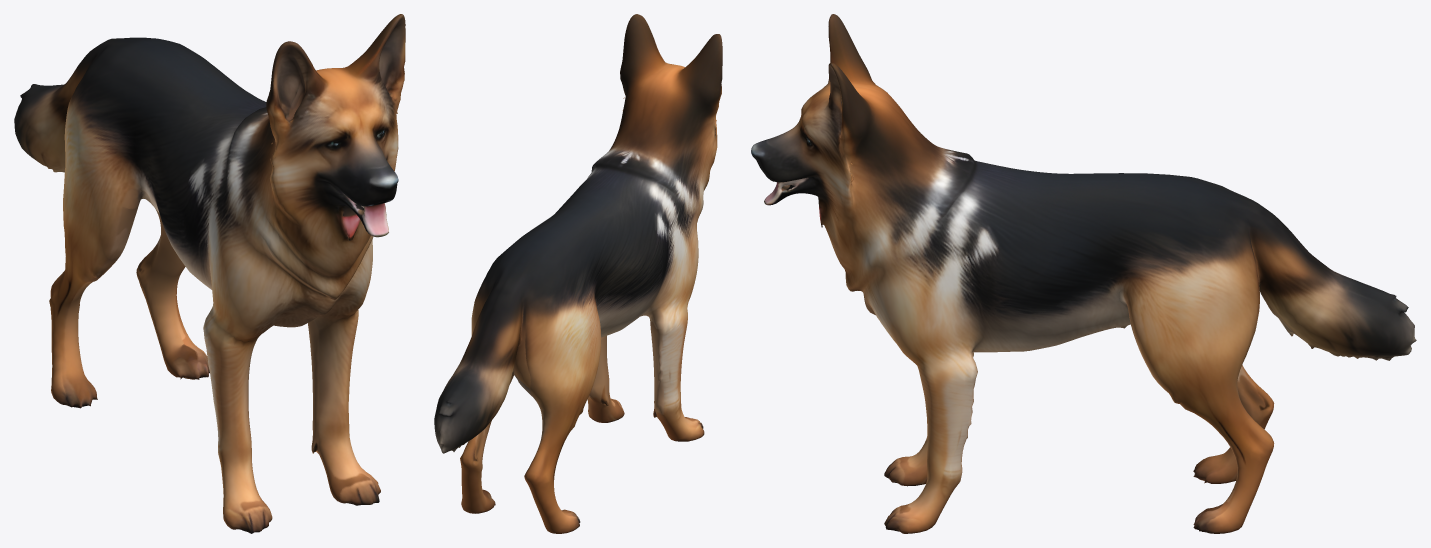
Rendered from Shephard_tri.obj.
3 views of the same model, side by side, from view 1: azimuth 30°, elevation 25°; view 2: azimuth 150°, elevation 25°; view 3: azimuth 270°, elevation 25° (orthographic). The views are drawn at different scales.
Size of the model in its own units: 0.4523 by 1.47 by 1.9.
Materials: 1 (1 with a texture image).
